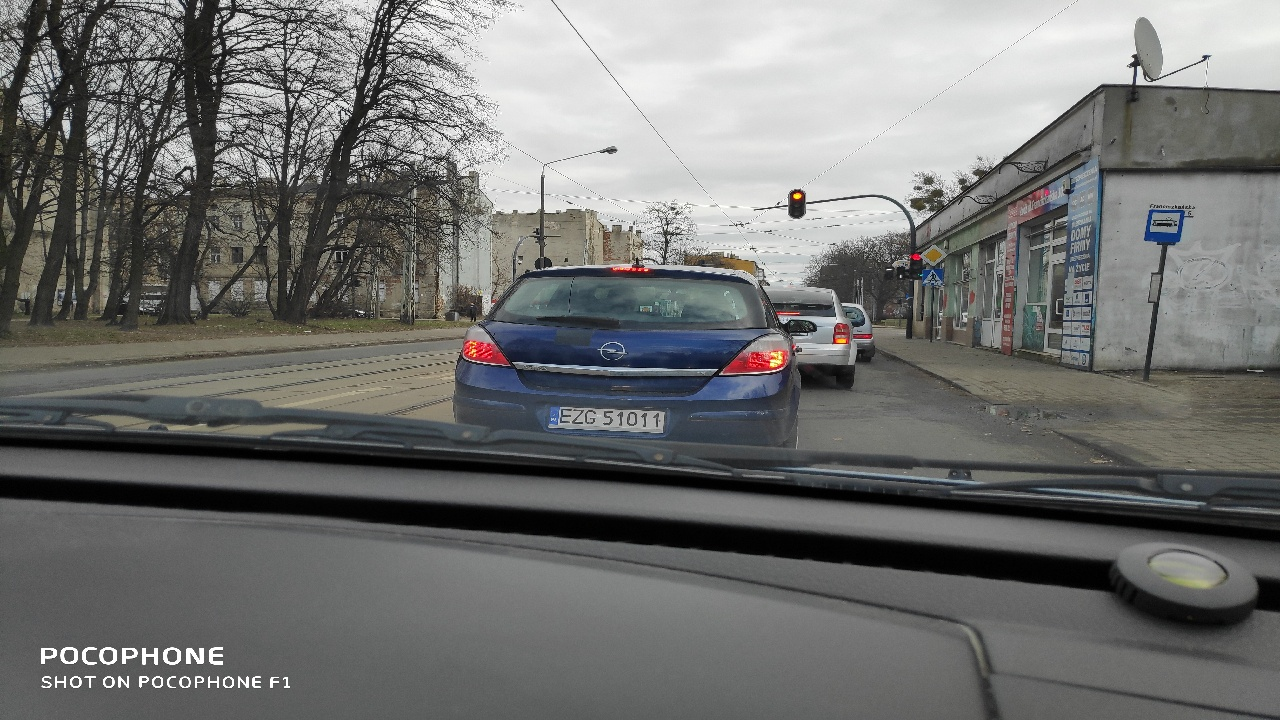D1: (921, 244, 948, 266)
D6: (922, 269, 944, 286)
Red: (793, 191, 803, 216), (912, 253, 921, 279)
